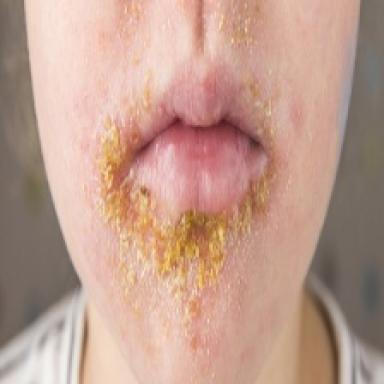Impetigo: (77, 66, 290, 375), (208, 0, 267, 48), (114, 0, 149, 40)
